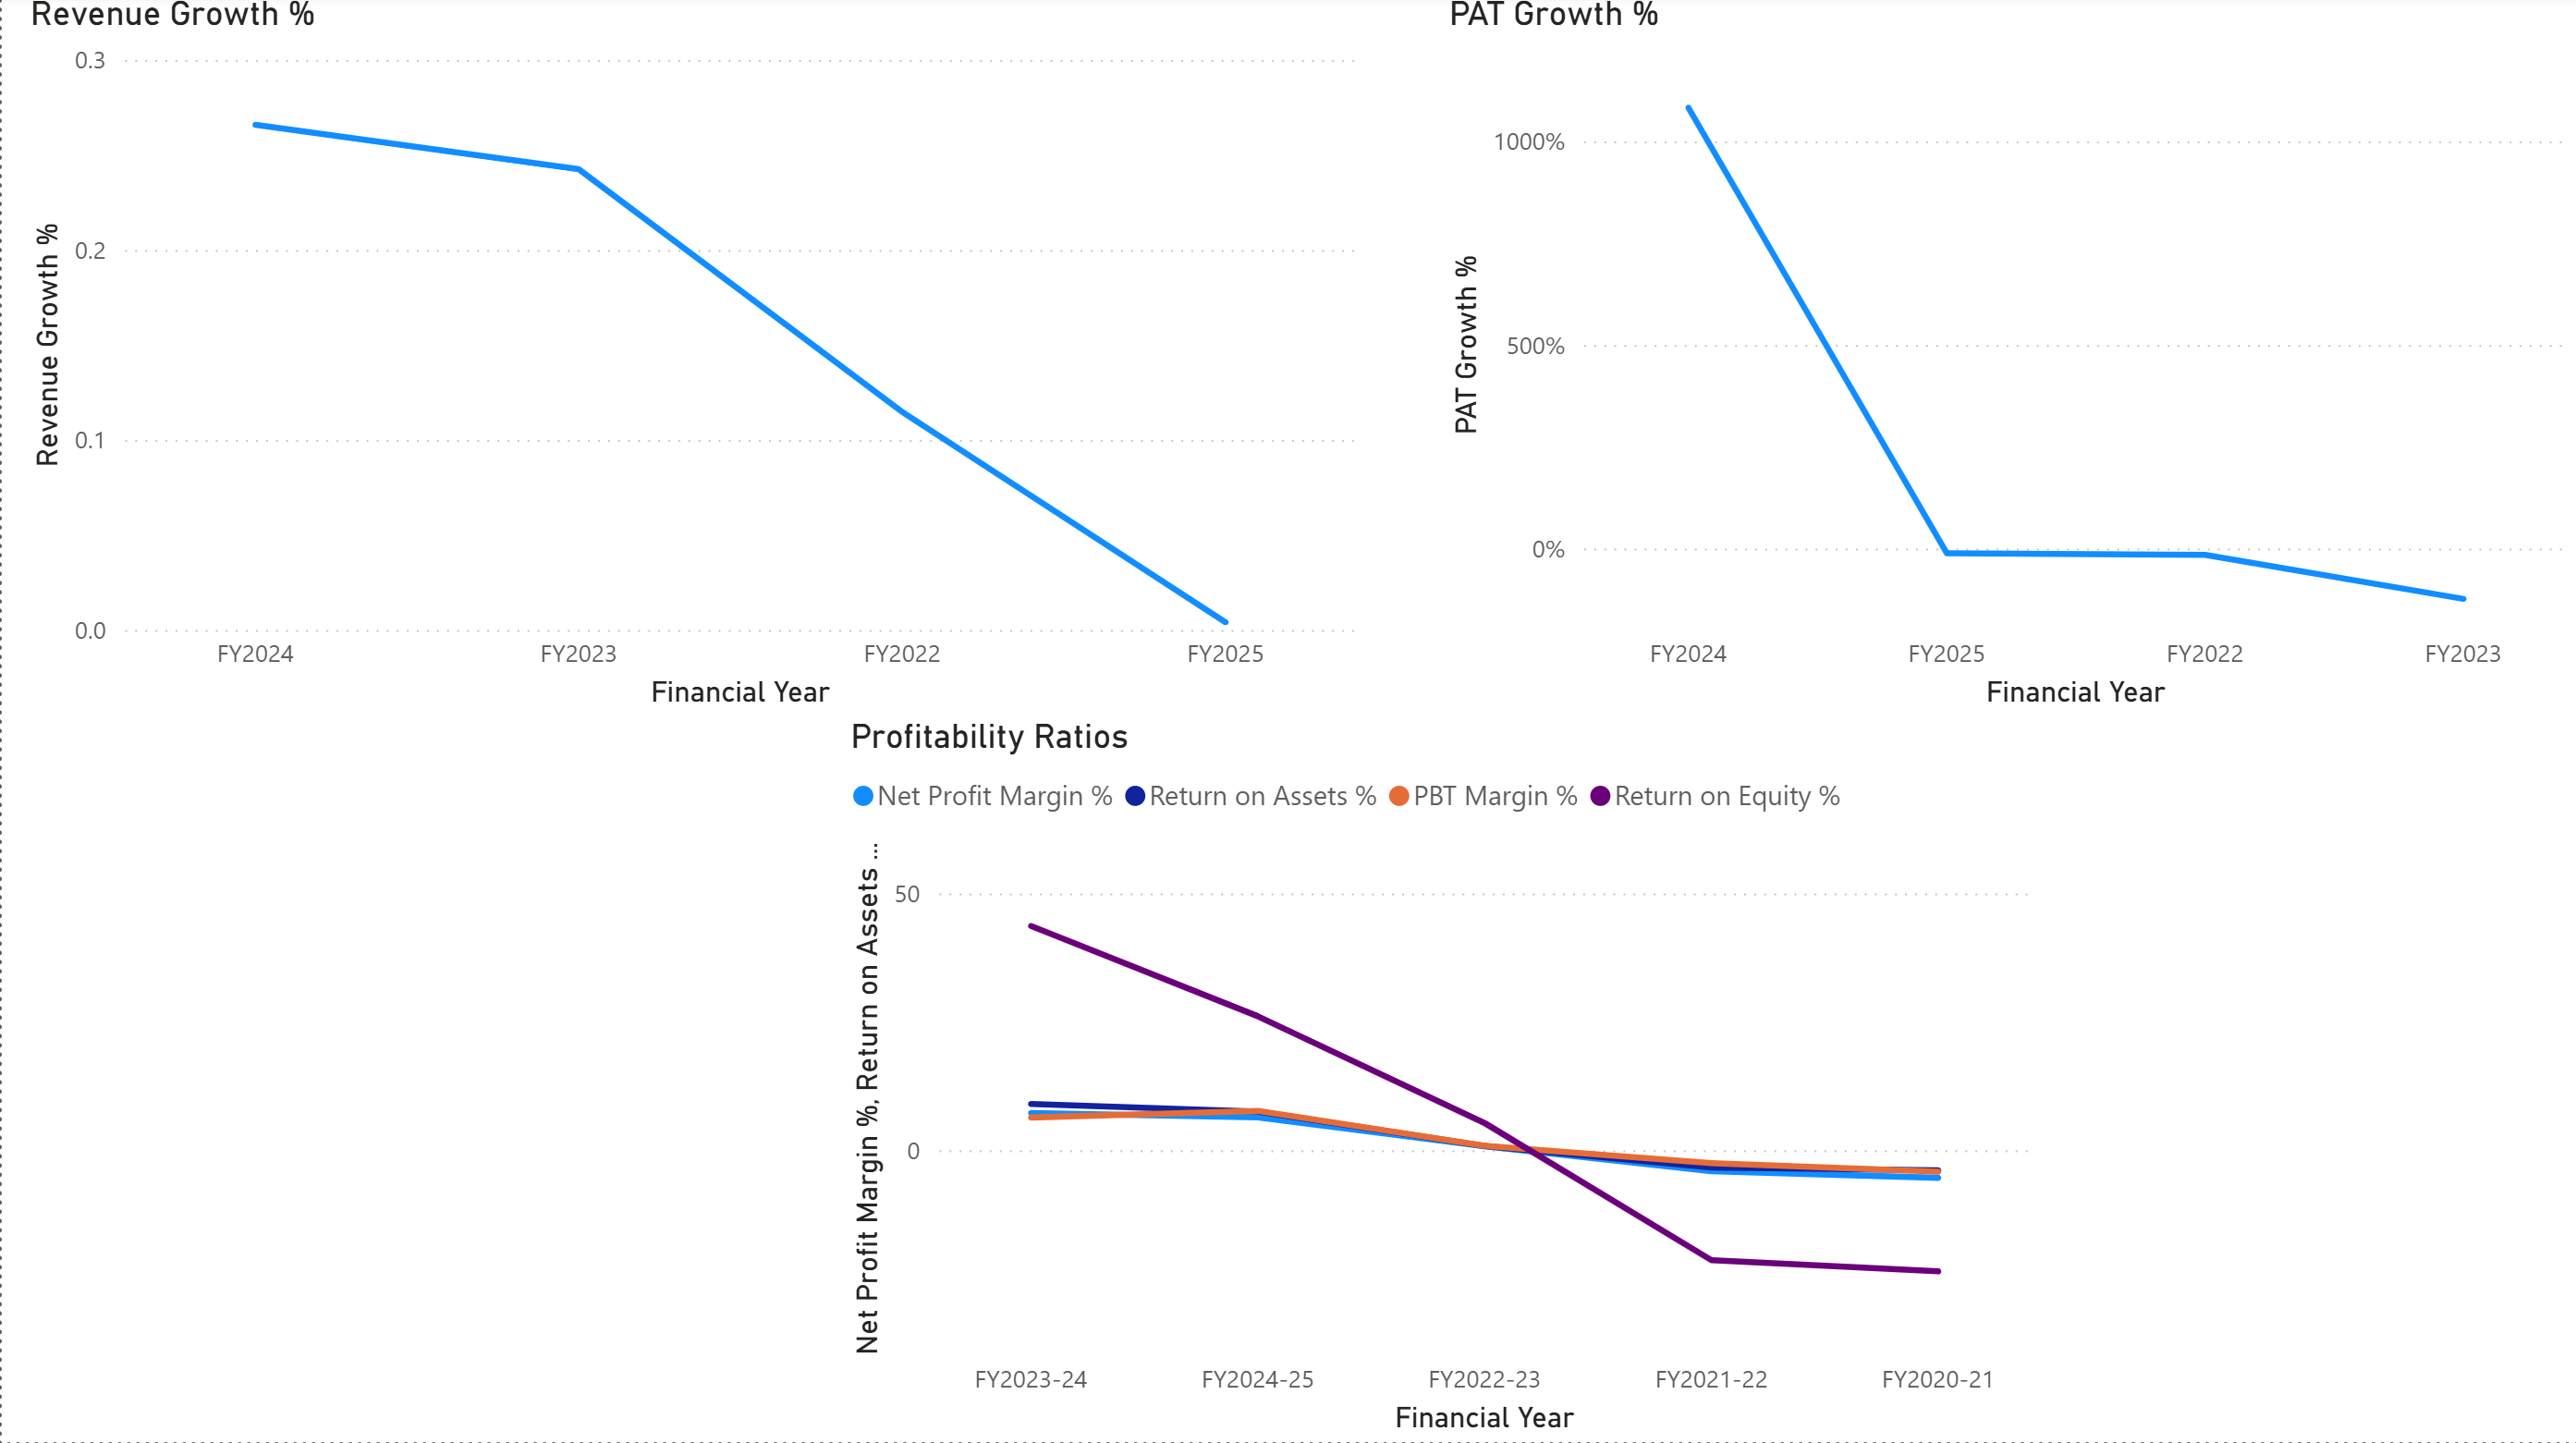

The page's visual inventory and layout, read from the dashboard file:
{"tool":"powerbi","page":{"name":"Profitability & Growth","canvas":[1280,720],"ordinal":1},"visuals":[{"type":"lineChart","title":"Revenue Growth %","fields":{"Y":["Sum(Income Statement.Revenue Growth %)"],"Category":["Income Statement.financial_year"]},"box":[9.6,0,668.3,359.5],"z":0},{"type":"lineChart","title":"PAT Growth %","fields":{"Category":["Income Statement.financial_year"],"Y":["Sum(Income Statement.PAT Growth %)"]},"box":[714.9,0,565.4,359.5],"z":1000},{"type":"lineChart","title":"Profitability Ratios","fields":{"Y":["Sum(Financial Ratios.net_profit_margin_pct)","Sum(Financial Ratios.return_on_assets_pct)","Sum(Financial Ratios.pbt_margin_pct)","Sum(Financial Ratios.return_on_equity_pct)"],"Category":["Balance Sheet.financial_year"]},"box":[417.2,359.5,595.5,360.9],"z":2000}]}

Visuals, with their boxes in screenshot pixels (x1, y1, x2, y2), scaled from the page's 1280x720 canvas onto the 2576x1443 screenshot:
"Revenue Growth %" lineChart: <region>19, 0, 1364, 720</region>
"PAT Growth %" lineChart: <region>1439, 0, 2575, 720</region>
"Profitability Ratios" lineChart: <region>839, 720, 2038, 1442</region>
